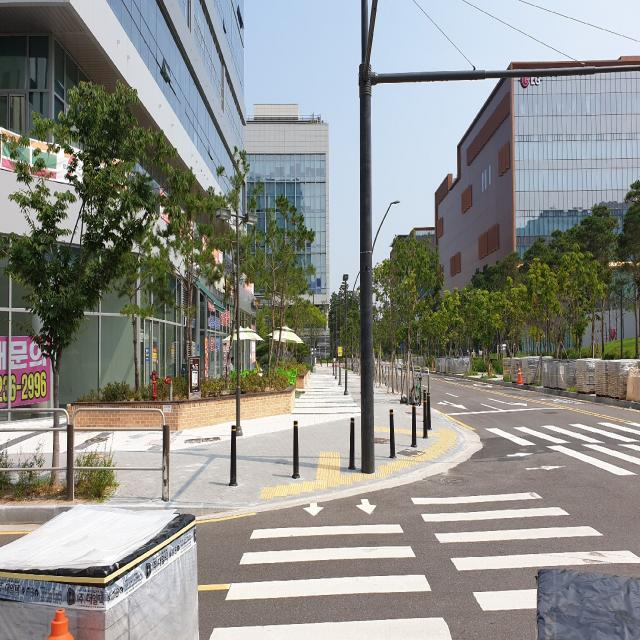횡단보도: (207, 490, 640, 640), (476, 388, 640, 482)
